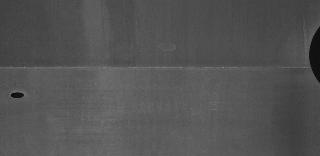punching hole: (9, 91, 29, 101)
welding line: (2, 64, 316, 74)
